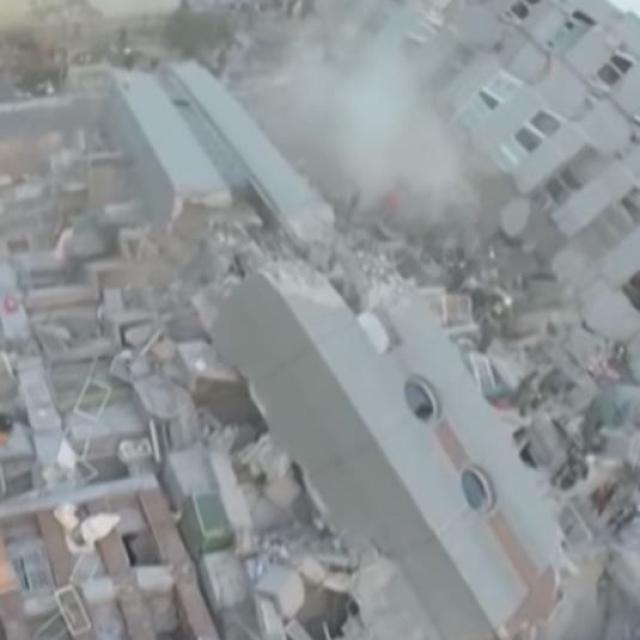collapsed_building: (5, 39, 635, 639)
